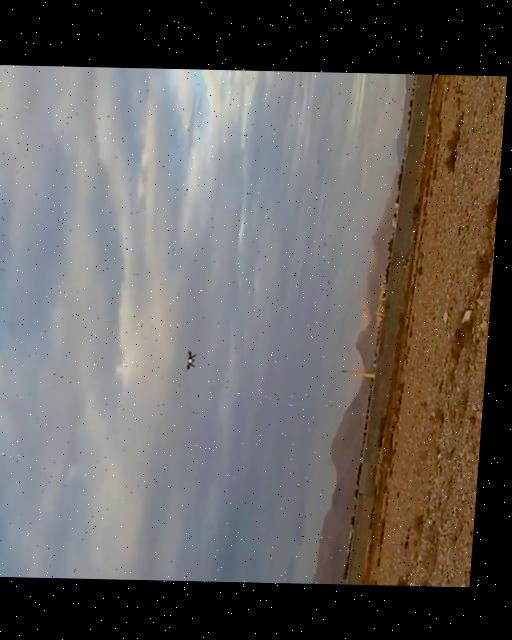drone: (186, 346, 205, 371)
